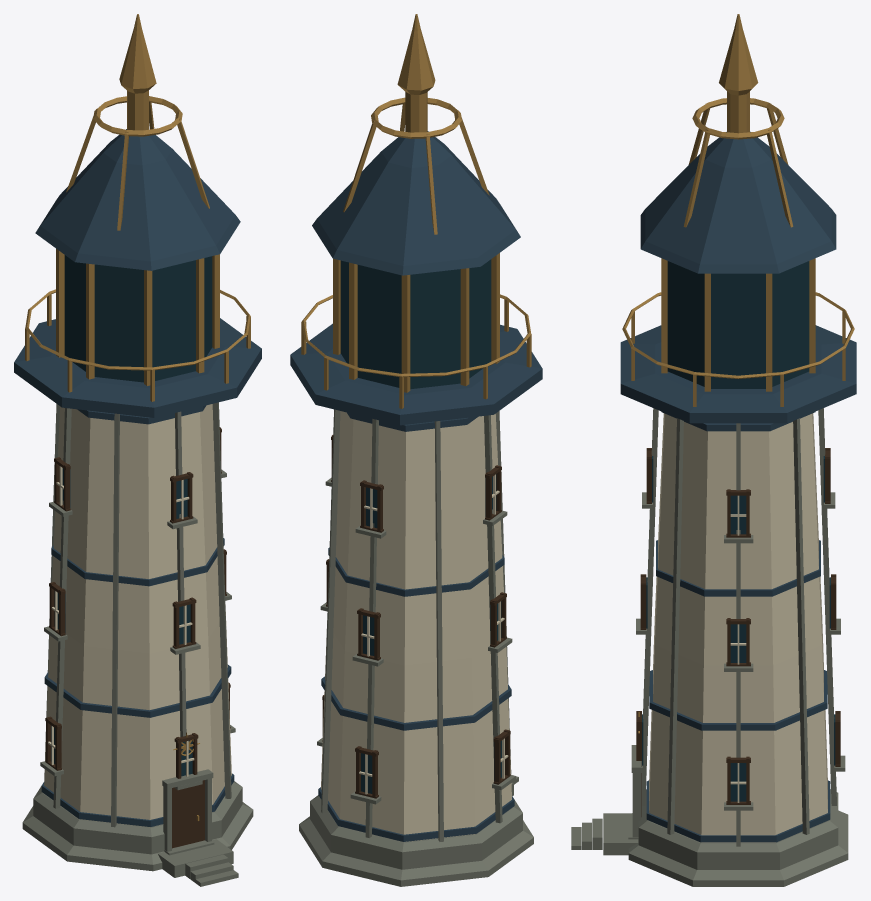
Rendered from StormSpire_LOD1.fbx.
The picture shows the model from 3 angles, left to right: view 1: azimuth 30°, elevation 25°; view 2: azimuth 150°, elevation 25°; view 3: azimuth 270°, elevation 25°; orthographic projection. The views are drawn at different scales.
Parts seen in each view (by area): view 1: StormSpire_Body; view 2: StormSpire_Body; view 3: StormSpire_Body.
Part boxes in pixels (x1,y1,x2,y2): StormSpire_Body: (14, 14, 261, 886); StormSpire_Body: (290, 14, 542, 886); StormSpire_Body: (571, 14, 856, 886).
Size of the model in its own units: 8.13 by 31.4 by 9.82.
